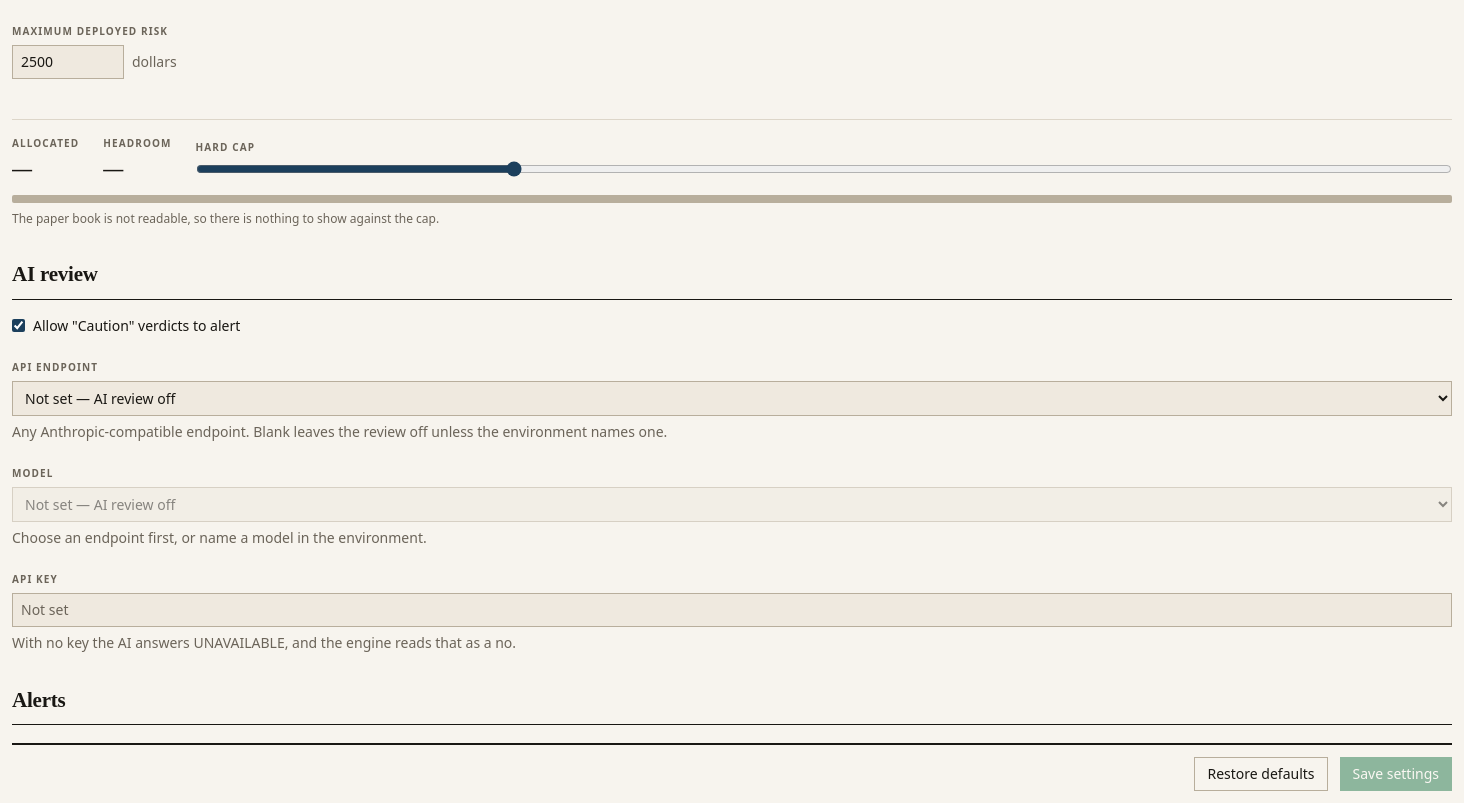
Test: Settings · AI provider picker › reveals a URL field, and a text model, when Custom is chosen
The width and height of the screenshot is (1464, 803).
(page scrolled)
Select "Custom…" in the dropdown labelled "API endpoint" at x=732, y=398, box [12, 381, 1452, 416]
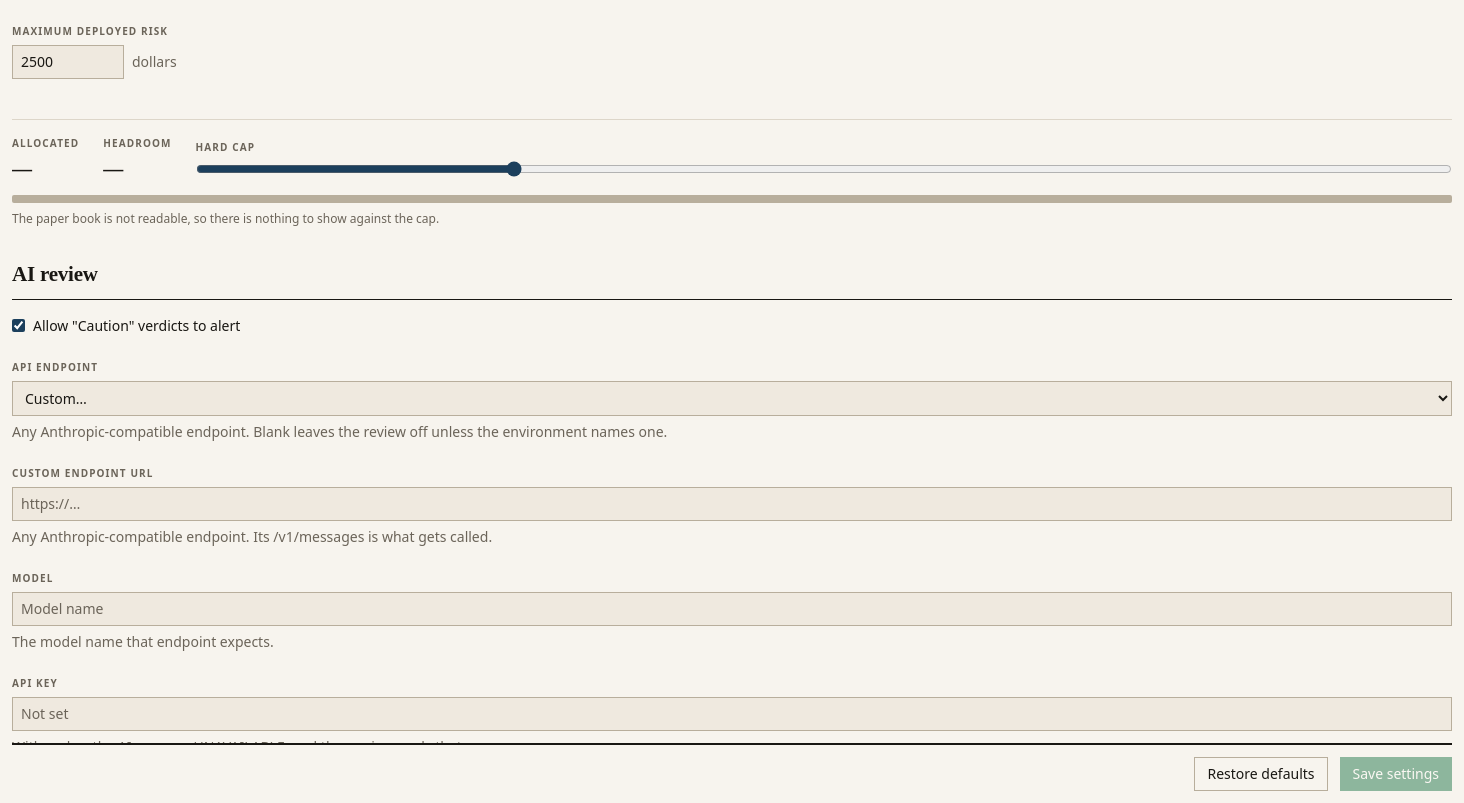
Expected: the field labelled "Custom endpoint URL" is shown, [12, 487, 1452, 521]
